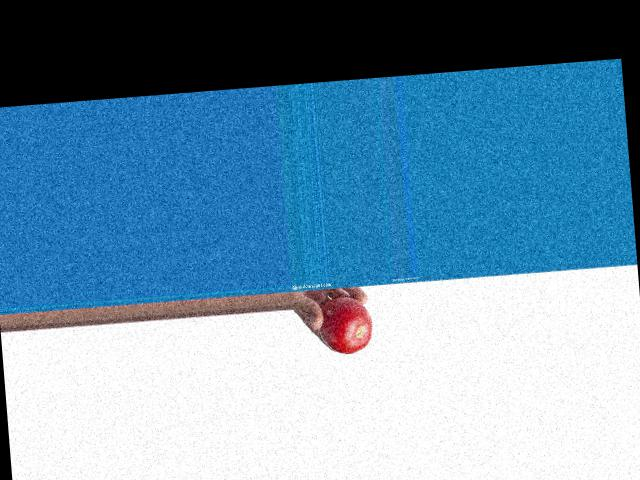tomato: (316, 294, 374, 355)
